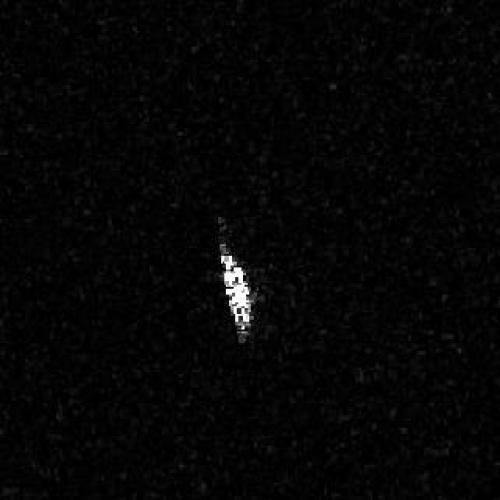ship: (218, 241, 253, 341)
